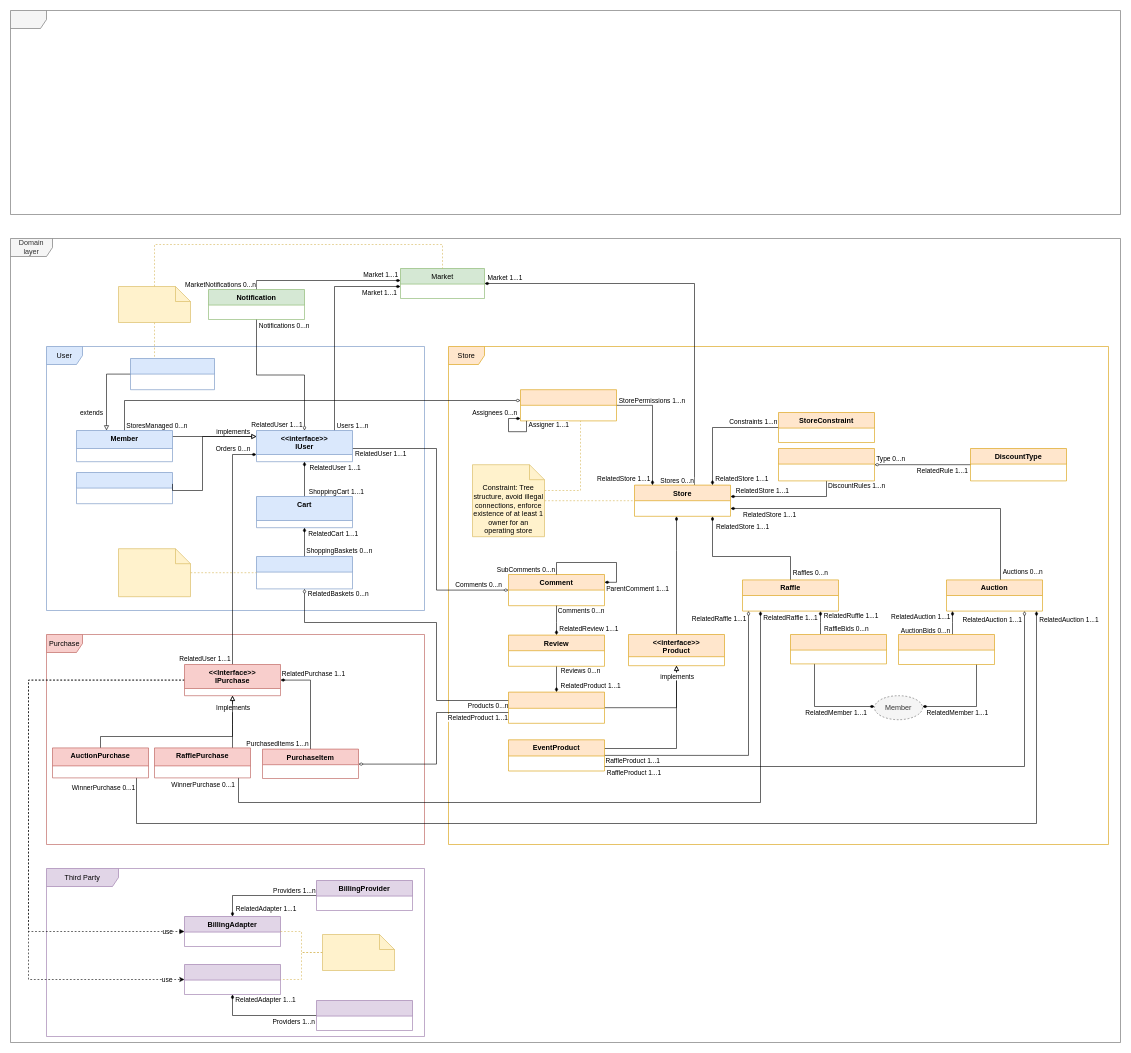
Image size: 1131x1053. Some labels were removed from this diagram. The shapes that lost their labels are listed below. From the top down, each one's centre as x and y in pixels, then its label:
(565,112): Service layer
(154,304): Constraint: Market has at least 1 Admin
(172,374): Admin
(568,405): StorePermissions
(826,464): DiscountRule
(124,488): Guest
(154,572): Constraint: Every basket is unique by store
(304,572): Basket
(838,649): RaffleBid
(946,649): AuctionBid
(556,707): RegularProduct
(358,952): Singletons
(232,979): DeliveryAdapter
(364,1015): DeliveryProvider
